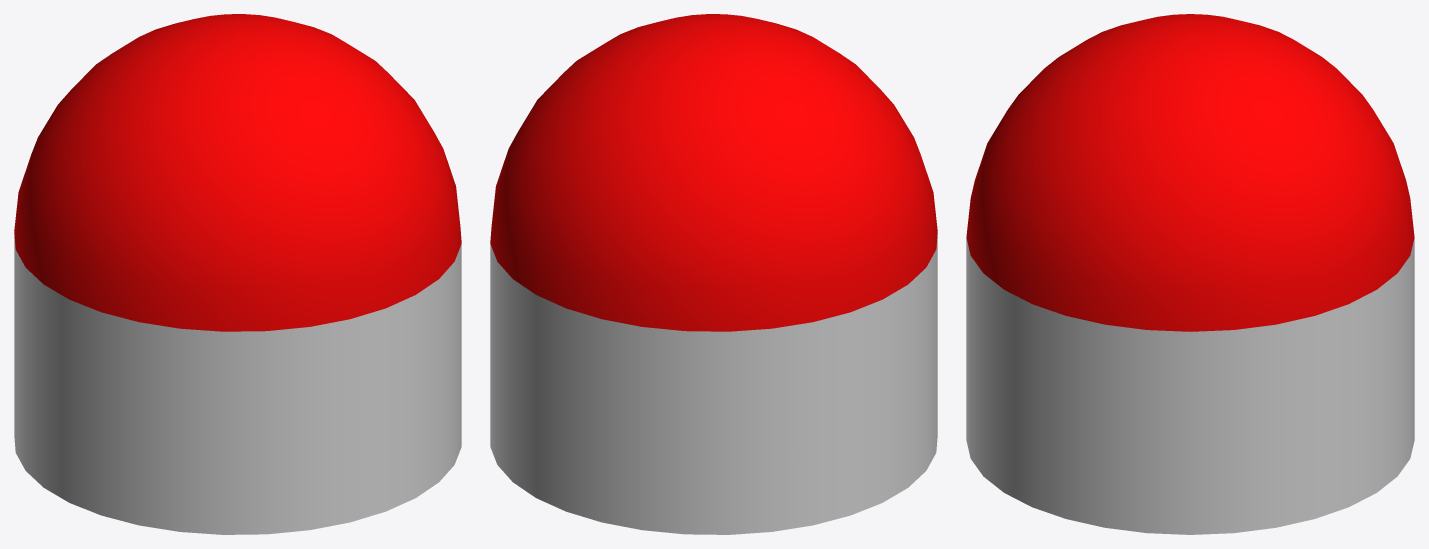
Rendered from lighthouseCap.fbx.
3 views of the same model, side by side, from view 1: azimuth 30°, elevation 25°; view 2: azimuth 150°, elevation 25°; view 3: azimuth 270°, elevation 25° (orthographic).
Parts seen in each view (by area): view 1: Lighthouse Cap; view 2: Lighthouse Cap; view 3: Lighthouse Cap.
Boxes of the visible parts, bbox=[...] form: Lighthouse Cap: bbox=[14, 14, 461, 534]; Lighthouse Cap: bbox=[490, 14, 937, 534]; Lighthouse Cap: bbox=[966, 14, 1414, 534].
Bounding box in the file's own units: 200 × 200 × 200.
